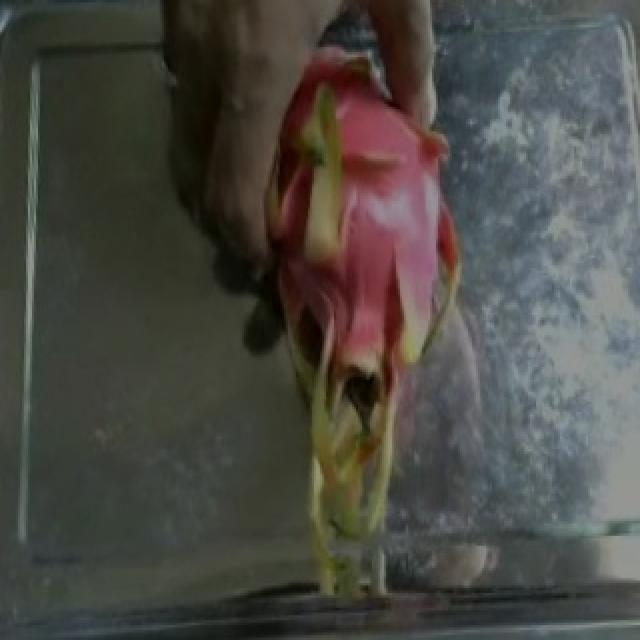fruit: (226, 10, 480, 451)
